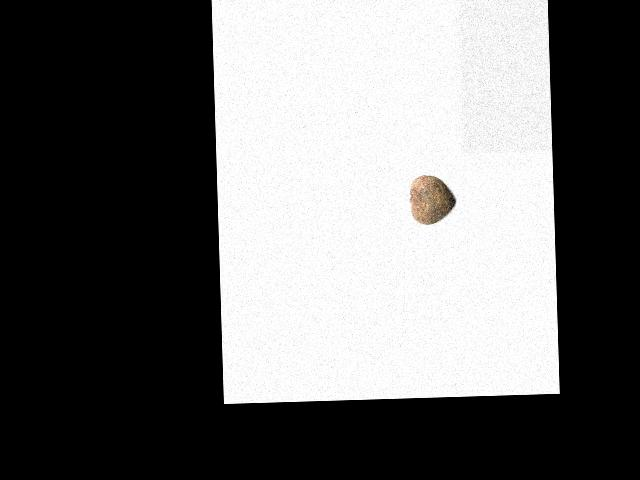beet: (409, 174, 456, 225)
